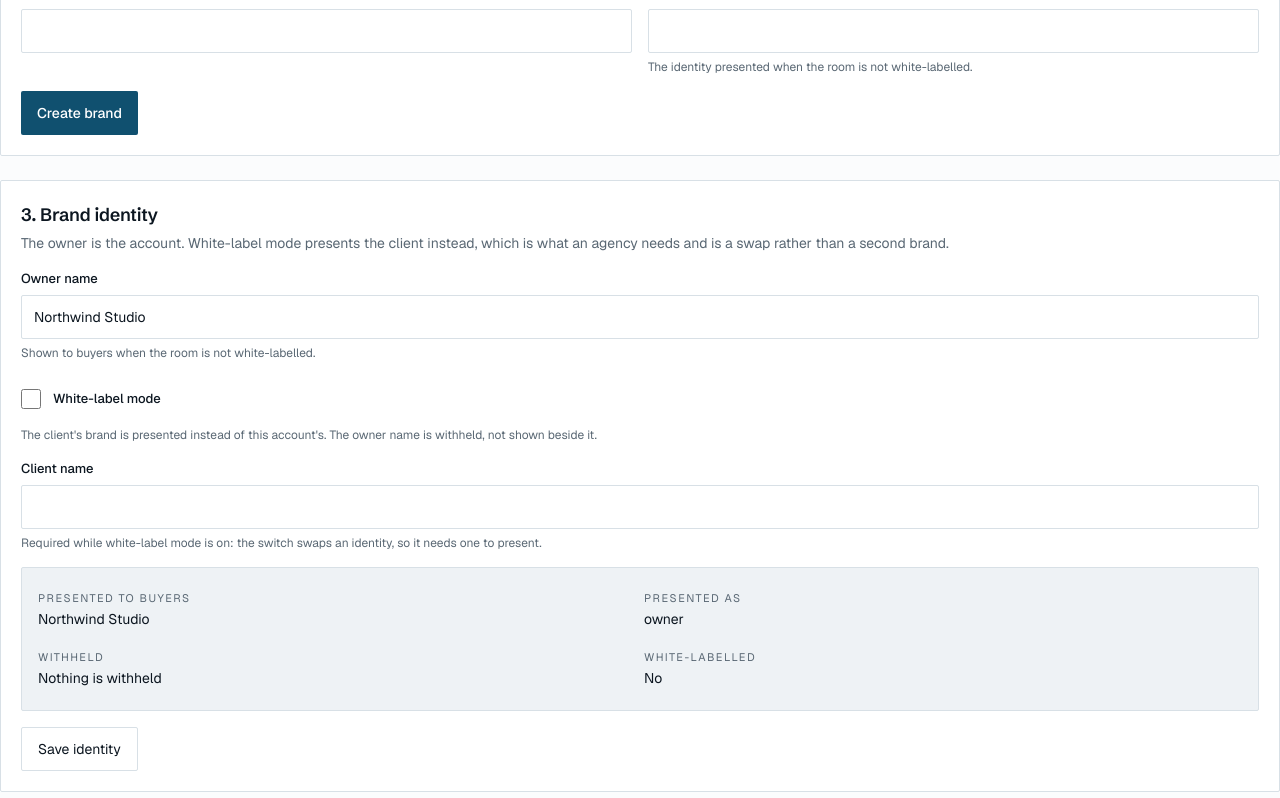
Test: the owner identity and white-label mode › shows the server's reason when white-label mode has no client to present
This screenshot has width=1280, height=798.
(page scrolled)
Expected: the field labelled "Owner name" is shown, [21, 295, 1259, 339]
Click the checkbox labelled "White-label mode" at (31, 399), box [21, 389, 41, 409]
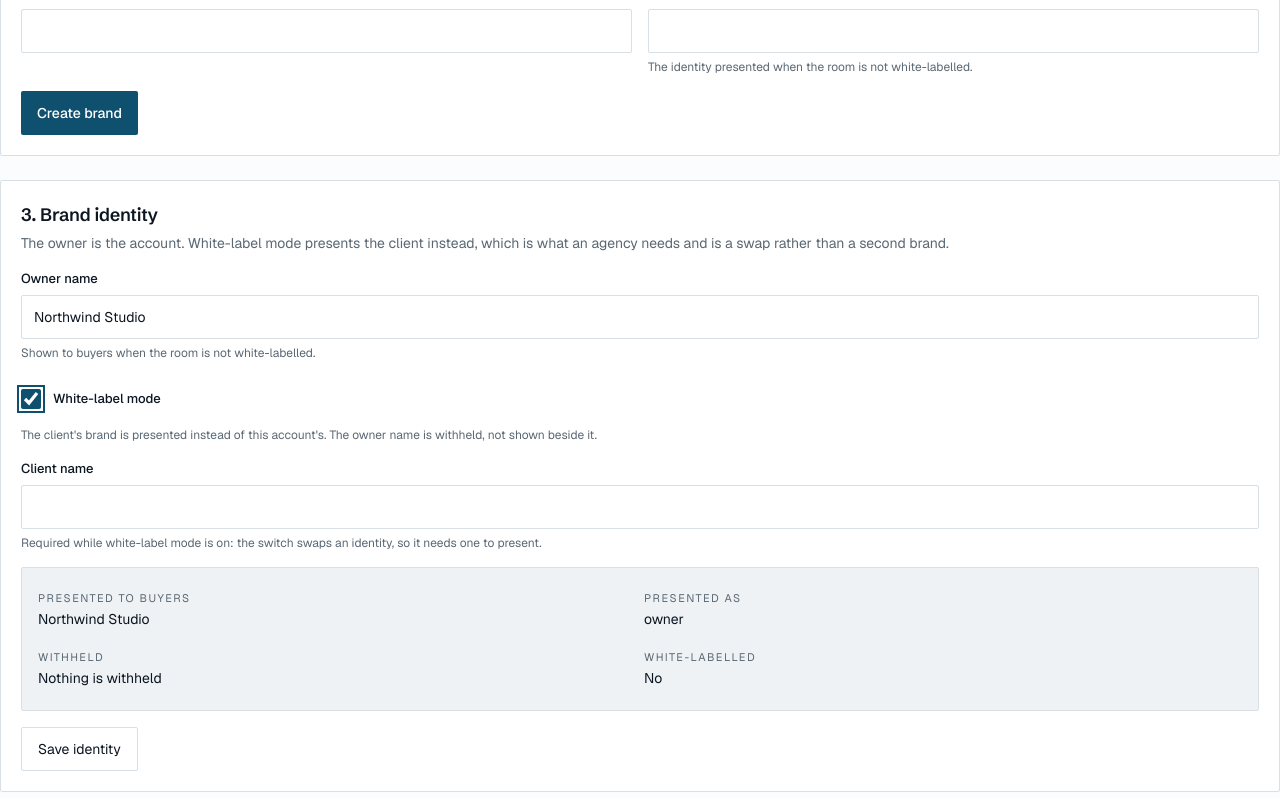
Click the button "Save identity" at (79, 749), box [21, 727, 138, 771]
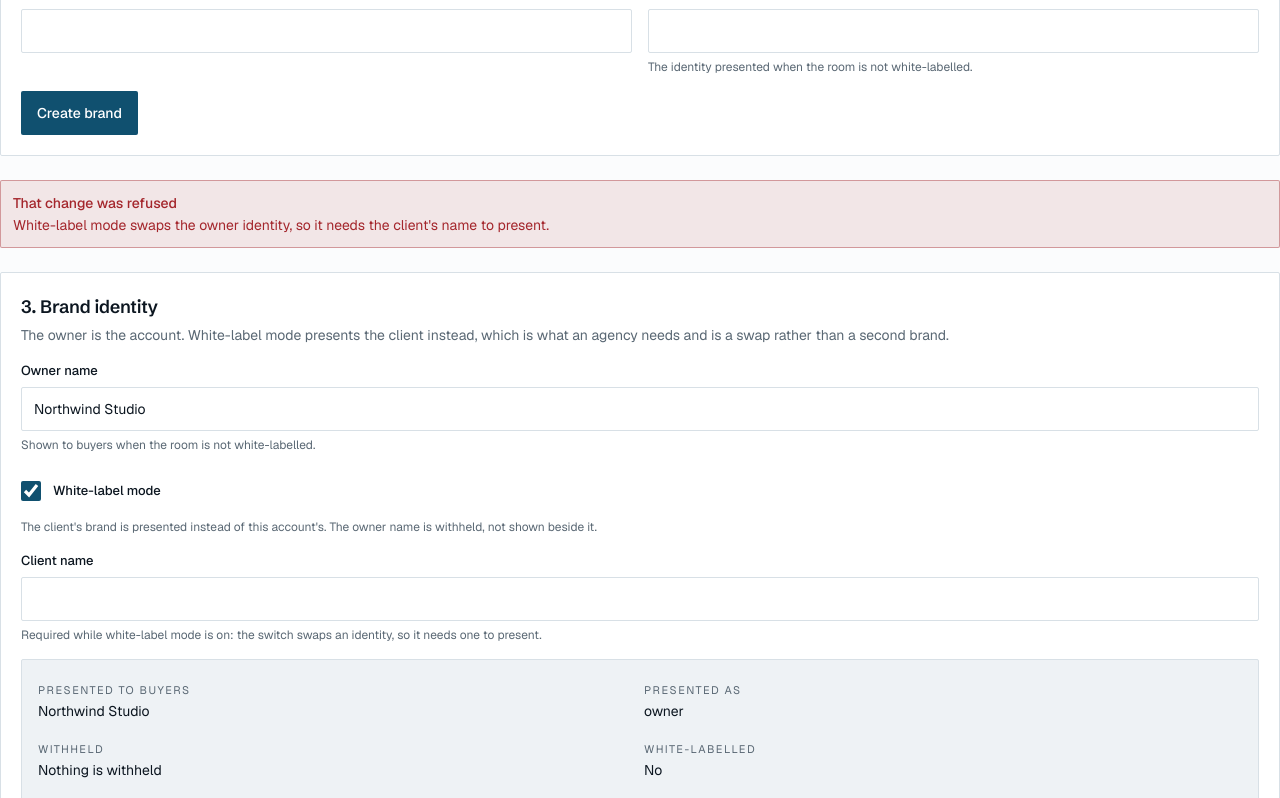
Result: the text "needs the client's name to present" is shown at [13, 216, 549, 234]
